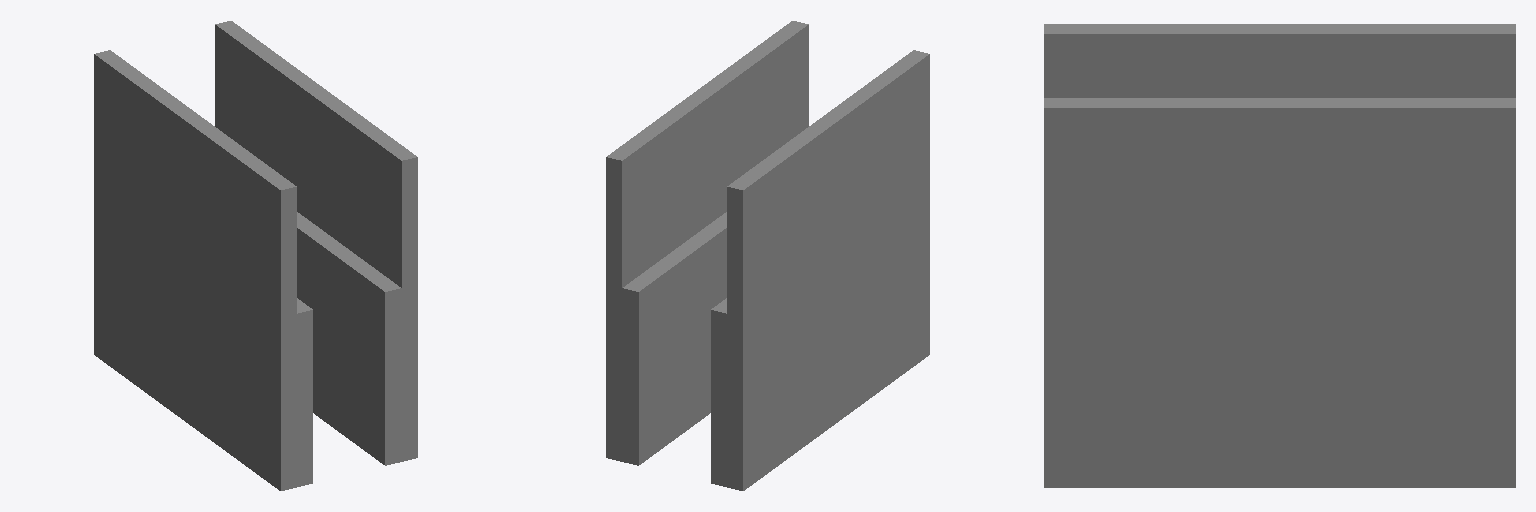
The robot description file, URDF, robot "model.urdf":
<?xml version="1.0" ?>
        <robot name="model.urdf">
            
        <material name="Gray">
            <color rgba="0.6 0.6 0.6 1.0"/>
        </material>
            
            <link name="base_link"/>
            
            <link concave="no" name="link_1">
            <inertial>
                <density value="1000"/>
            </inertial>
            <visual>
                <origin xyz="0 0 0" rpy="0.0 0.0 0.0"/>
                <geometry>
                <mesh filename="assets/meshes/stutzmontage/visual/fixture_box.obj" scale="0.005092111718412978 0.1 0.05142787987854228" />
                </geometry>
                <material name="Gray"/>
            </visual>
            <collision>
                <origin xyz="0 0 0" rpy="0.0 0.0 0.0"/>
                <geometry>
                <mesh filename="assets/meshes/stutzmontage/visual/fixture_box.obj" scale="0.005092111718412978 0.1 0.05142787987854228"/>
                </geometry>
            </collision>
            </link>
        
            
            <link concave="no" name="link_2">
            <inertial>
                <density value="1000"/>
            </inertial>
            <visual>
                <origin xyz="0 0 0" rpy="0.0 0.0 0.0"/>
                <geometry>
                <mesh filename="assets/meshes/stutzmontage/visual/fixture_box.obj" scale="0.005092111718412978 0.1 0.05142787987854228" />
                </geometry>
                <material name="Gray"/>
            </visual>
            <collision>
                <origin xyz="0 0 0" rpy="0.0 0.0 0.0"/>
                <geometry>
                <mesh filename="assets/meshes/stutzmontage/visual/fixture_box.obj" scale="0.005092111718412978 0.1 0.05142787987854228"/>
                </geometry>
            </collision>
            </link>
        
            
            <link concave="no" name="link_3">
            <inertial>
                <density value="1000"/>
            </inertial>
            <visual>
                <origin xyz="0 0 0" rpy="0.0 0.0 0.0"/>
                <geometry>
                <mesh filename="assets/meshes/stutzmontage/visual/fixture_box.obj" scale="0.005 0.1 0.08905381179501778" />
                </geometry>
                <material name="Gray"/>
            </visual>
            <collision>
                <origin xyz="0 0 0" rpy="0.0 0.0 0.0"/>
                <geometry>
                <mesh filename="assets/meshes/stutzmontage/visual/fixture_box.obj" scale="0.005 0.1 0.08905381179501778"/>
                </geometry>
            </collision>
            </link>
        
            
            <link concave="no" name="link_4">
            <inertial>
                <density value="1000"/>
            </inertial>
            <visual>
                <origin xyz="0 0 0" rpy="0.0 0.0 0.0"/>
                <geometry>
                <mesh filename="assets/meshes/stutzmontage/visual/fixture_box.obj" scale="0.005 0.1 0.08905381179501778" />
                </geometry>
                <material name="Gray"/>
            </visual>
            <collision>
                <origin xyz="0 0 0" rpy="0.0 0.0 0.0"/>
                <geometry>
                <mesh filename="assets/meshes/stutzmontage/visual/fixture_box.obj" scale="0.005 0.1 0.08905381179501778"/>
                </geometry>
            </collision>
            </link>
        
            
            <joint name="joint_1" type="fixed">
                <parent link="base_link"/>
                <child link="link_1"/>
                <origin xyz="0.013693161164097706 0 0.02571393993927114" rpy="0.0 0.0 0.0"/>
            </joint>
        
            
            <joint name="joint_2" type="fixed">
                <parent link="base_link"/>
                <child link="link_2"/>
                <origin xyz="-0.013693161164097706 0 0.02571393993927114" rpy="0.0 0.0 0.0"/>
            </joint>
        
            
            <joint name="joint_3" type="fixed">
                <parent link="base_link"/>
                <child link="link_3"/>
                <origin xyz="0.018739217023304194 0 0.04452690589750889" rpy="0.0 0.0 0.0"/>
            </joint>
        
            
            <joint name="joint_4" type="fixed">
                <parent link="base_link"/>
                <child link="link_4"/>
                <origin xyz="-0.018739217023304194 0 0.04452690589750889" rpy="0.0 0.0 0.0"/>
            </joint>
        
        </robot>
        

--- Facts derived from the render (not from the file) ---
3 views of the same robot in one strip: view 1: azimuth 30°, elevation 25°; view 2: azimuth 150°, elevation 25°; view 3: azimuth 270°, elevation 25° (orthographic).
Robot: model.urdf — 5 links, 4 joints (4 fixed); root link base_link; default pose: every joint at zero.
Links seen in each view (by area): view 1: link_4, link_3, link_1, link_2; view 2: link_4, link_3, link_1, link_2; view 3: link_3, link_4.
Link boxes in pixels (<box>): link_4: <box>94,50,296,490</box>; link_3: <box>215,21,417,461</box>; link_1: <box>297,212,401,465</box>; link_2: <box>297,298,312,486</box>; link_4: <box>727,50,929,490</box>; link_3: <box>606,21,808,461</box>; link_1: <box>622,212,726,465</box>; link_2: <box>711,298,726,486</box>; link_3: <box>1044,98,1515,487</box>; link_4: <box>1044,24,1515,97</box>.
Size in the robot's own frame: 0.0425 by 0.1 by 0.0891 metres.
4 mesh visuals loaded from 1 distinct referenced files (1 OBJ).
